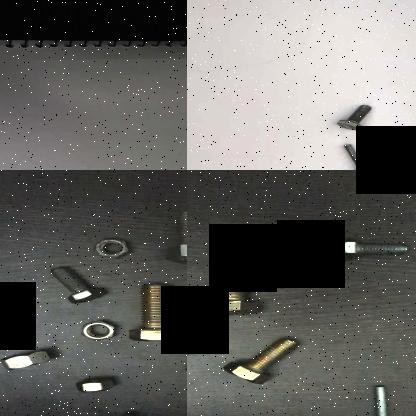Bolts: (193, 248, 265, 320), (218, 333, 310, 385), (126, 279, 186, 358), (48, 260, 110, 308), (337, 233, 413, 264), (163, 206, 187, 268), (363, 376, 398, 416), (333, 103, 377, 131), (337, 141, 375, 170)
NUTS: (0, 344, 58, 370), (86, 233, 134, 261), (78, 318, 118, 344), (67, 376, 118, 394), (174, 349, 187, 379)
